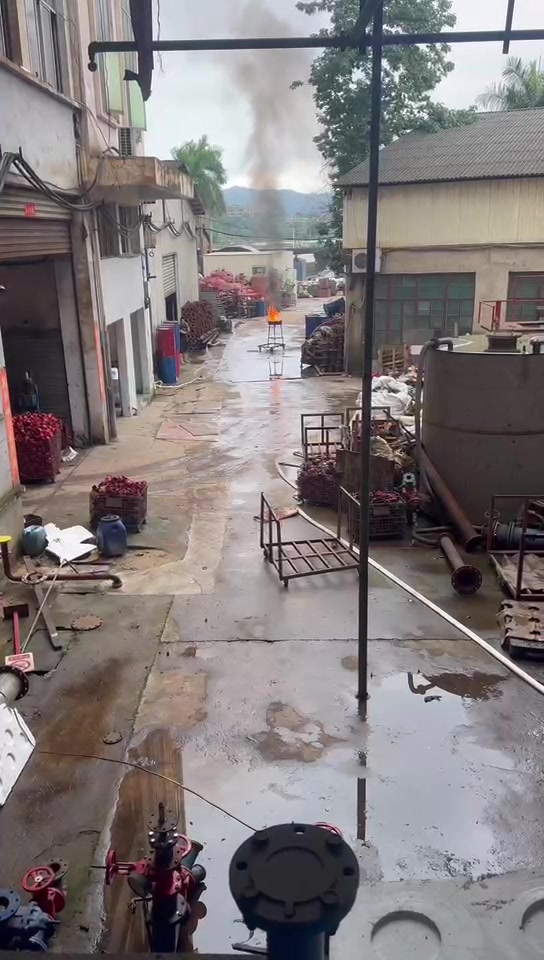fire: (267, 305, 282, 323)
